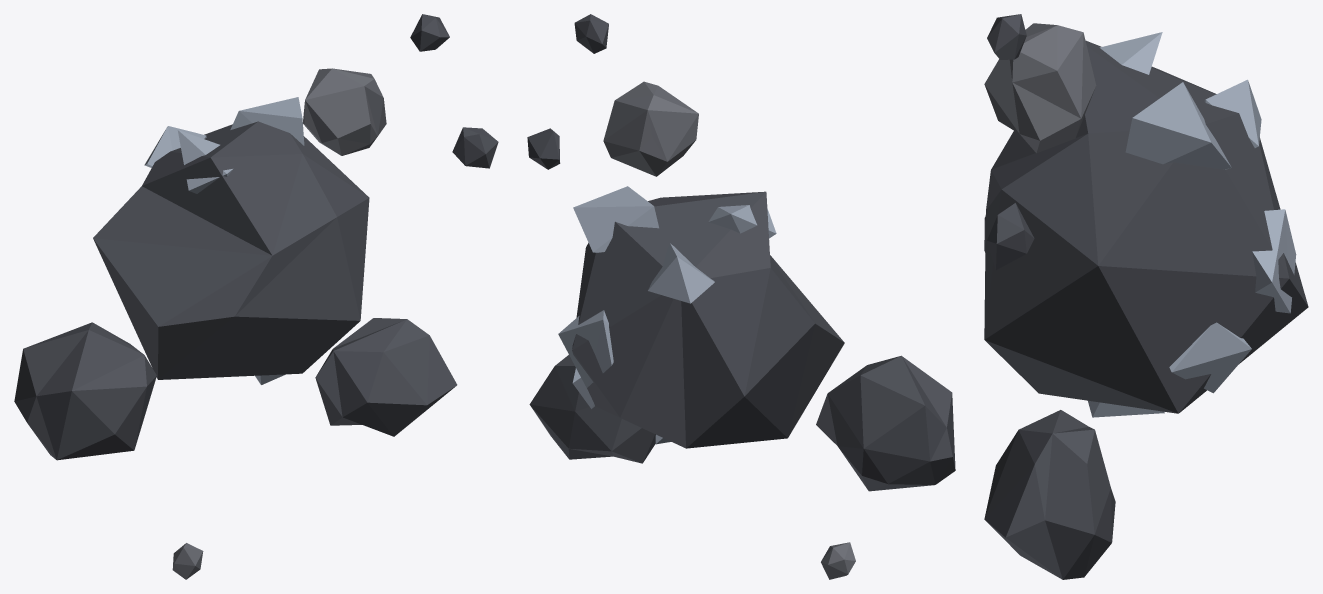
The model's file is SM_Rock_Iron_02.fbx.
3 renders of one model, left to right at view 1: azimuth 30°, elevation 25°; view 2: azimuth 150°, elevation 25°; view 3: azimuth 270°, elevation 25°, orthographic. The views are drawn at different scales.
Parts seen in each view (by area): view 1: fam_rock_dark, fam_rock, fam_iron; view 2: fam_rock_dark, fam_iron, fam_rock; view 3: fam_rock_dark, fam_iron, fam_rock.
Part boxes in pixels (x1,y1,x2,y2): fam_rock_dark: (14,14,498,460); fam_rock: (172,68,386,579); fam_iron: (144,97,304,384); fam_rock_dark: (527,14,955,491); fam_iron: (558,186,776,444); fam_rock: (603,81,855,579); fam_rock_dark: (984,14,1308,579); fam_iron: (1088,32,1296,417); fam_rock: (984,23,1096,153).
Size of the model in its own units: 9.41 by 10.08 by 4.4.
